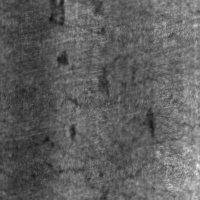crazing: (35, 70, 174, 189), (43, 41, 147, 108)
